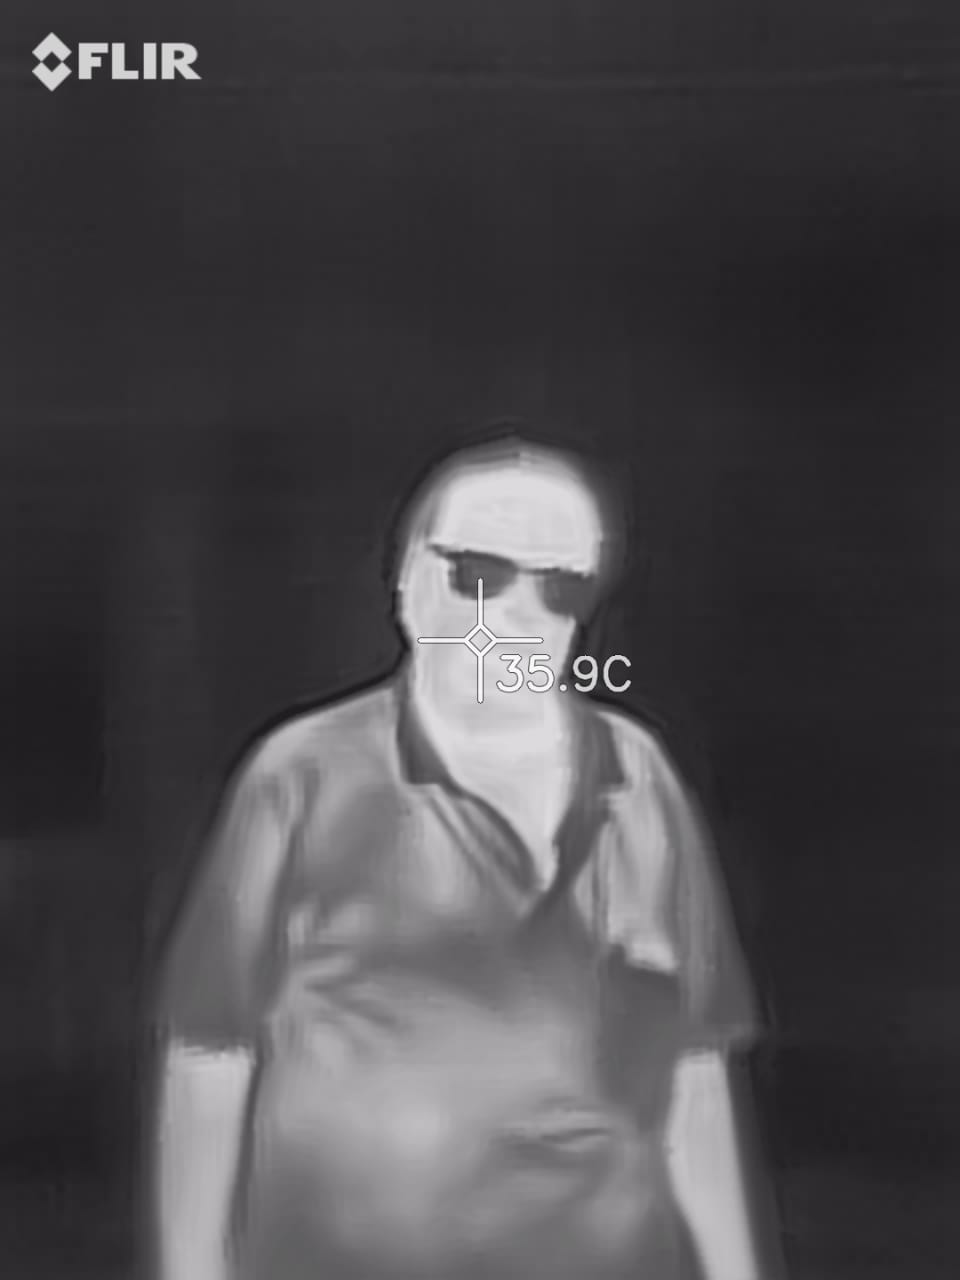head: (388, 431, 636, 726)
